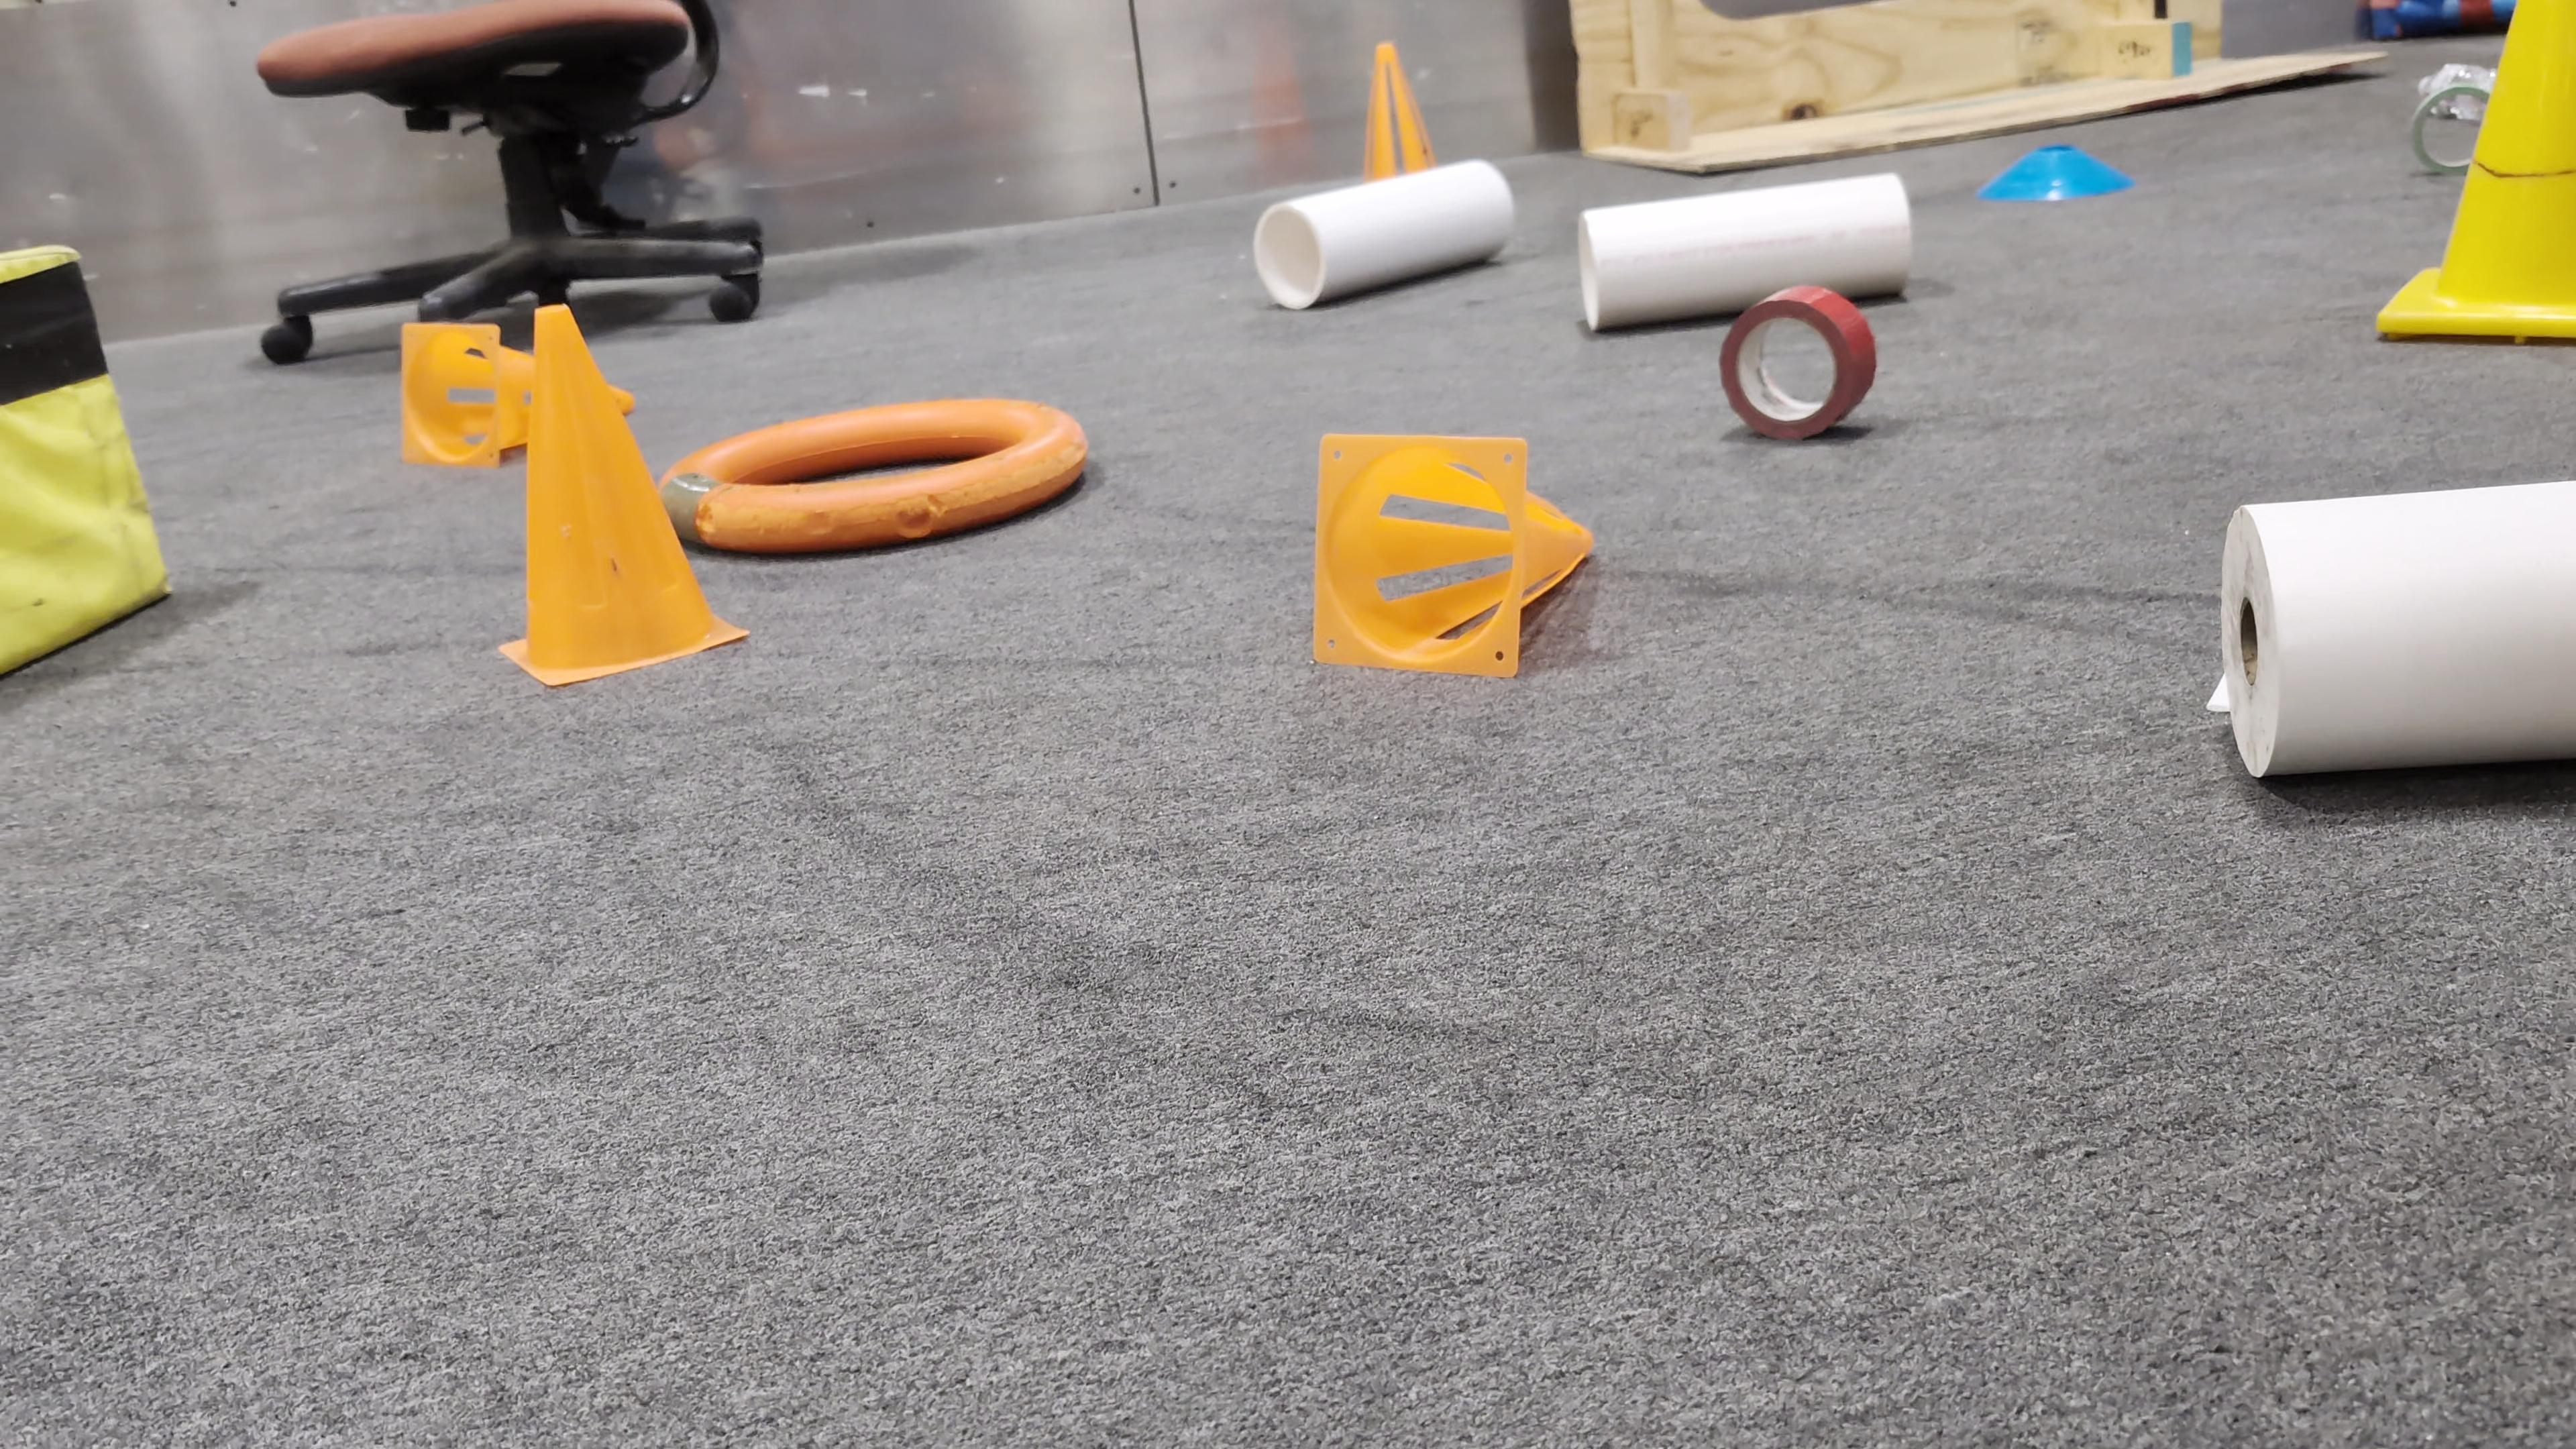coral: (1575, 159, 1916, 333), (1251, 152, 1518, 310)
